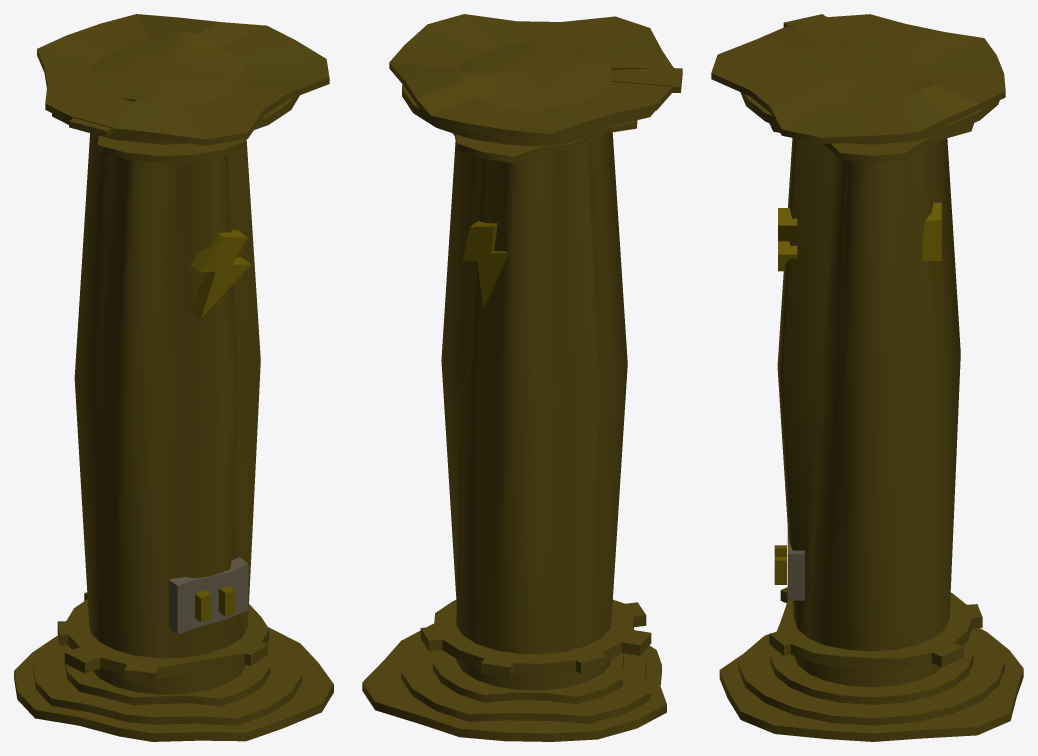
The model's file is pillarSmall.fbx.
3 renders of one model, left to right at view 1: azimuth 30°, elevation 25°; view 2: azimuth 150°, elevation 25°; view 3: azimuth 270°, elevation 25°, orthographic.
Parts seen in each view (by area): view 1: pillar5, plugBase1, oldThunder12; view 2: pillar5, oldThunder13; view 3: pillar5, oldThunder13, oldThunder12, plugBase1.
Boxes of the visible parts, x1,y1,x2,y2 form: pillar5: [14, 14, 333, 741]; plugBase1: [169, 557, 248, 634]; oldThunder12: [190, 230, 251, 317]; pillar5: [362, 14, 682, 741]; oldThunder13: [462, 221, 508, 306]; pillar5: [711, 14, 1023, 741]; oldThunder13: [922, 202, 941, 290]; oldThunder12: [778, 208, 797, 271]; plugBase1: [787, 528, 804, 600].
Size of the model in its own units: 5.91 by 13.14 by 6.08.
